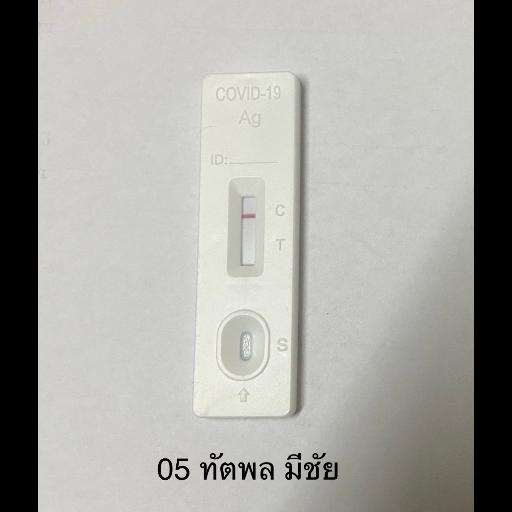Neg: (202, 74, 294, 416)
